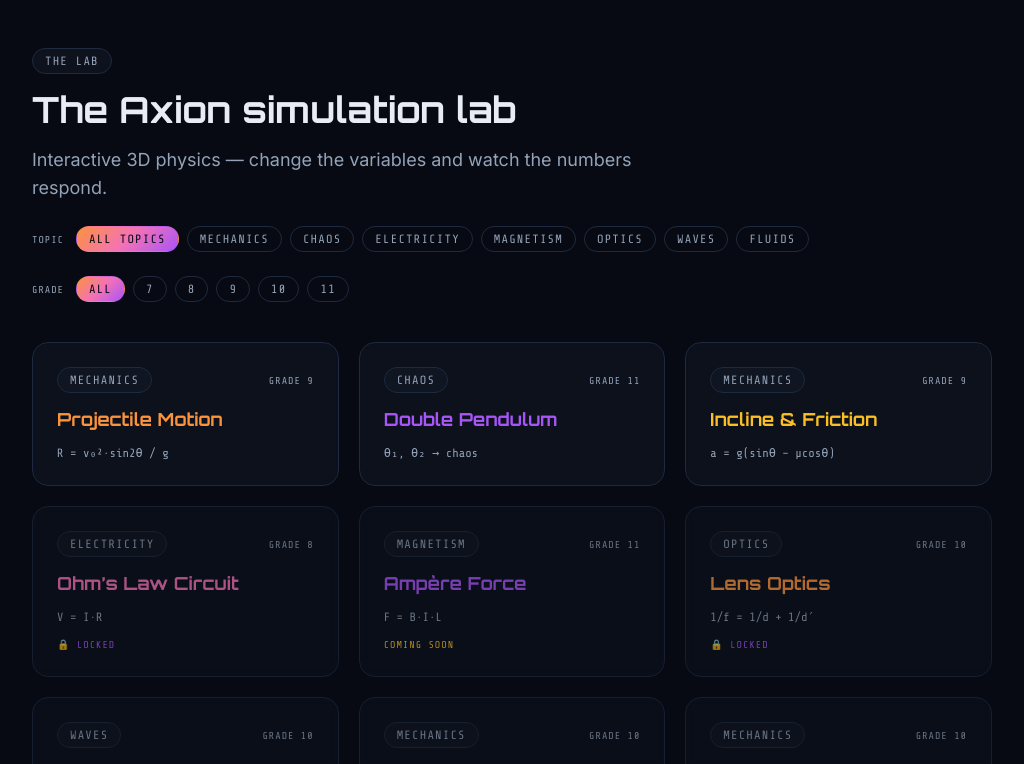
LabCatalog › built sims are links; filtering by grade narrows the set
Click the button "11" at (328, 289), box [308,276,349,302]
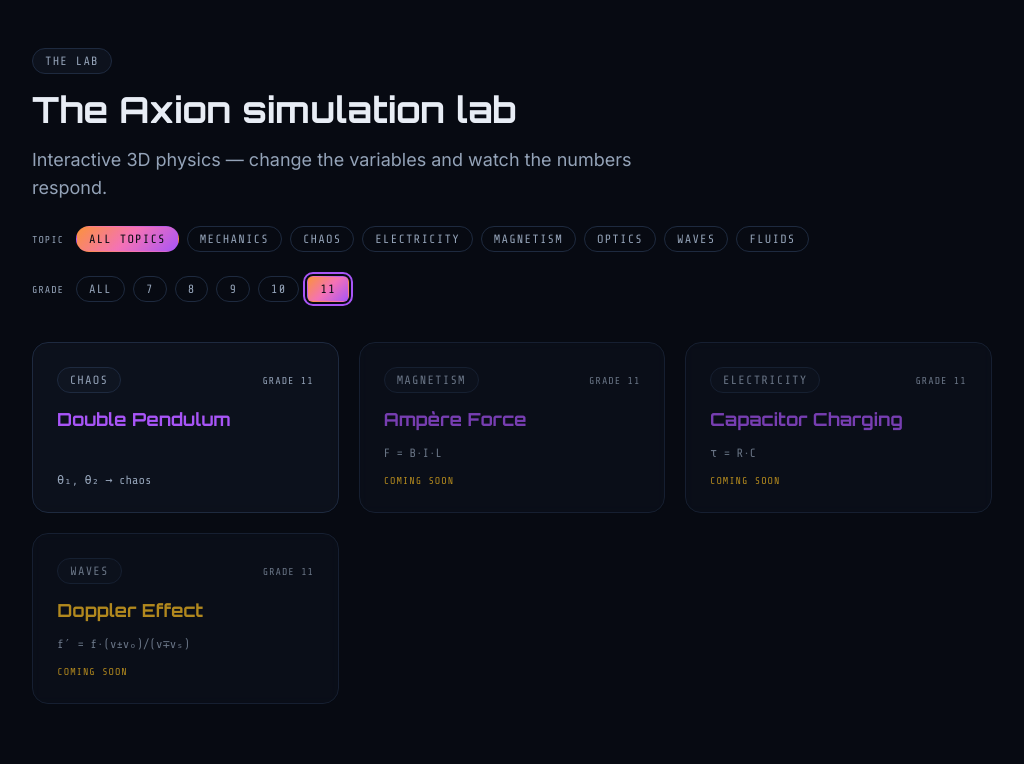
Expected: the link "Projectile Motion" is gone
